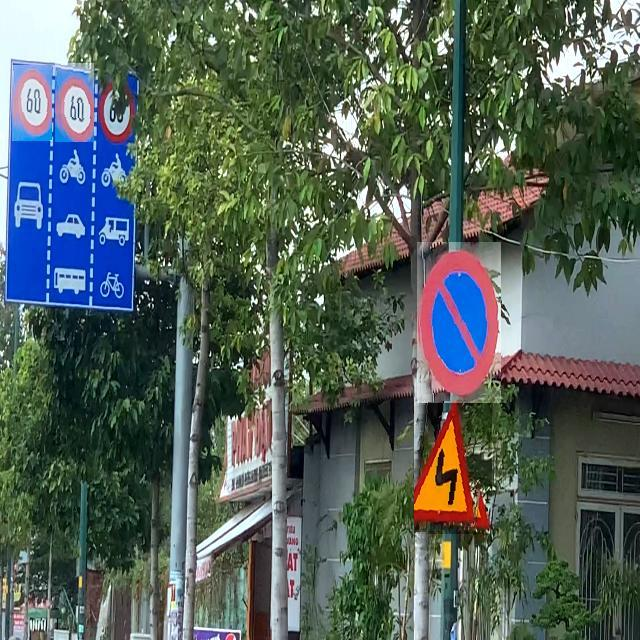P-127: (55, 63, 94, 142), (13, 66, 53, 142)
P-131a: (417, 242, 501, 403)
W-202a: (414, 392, 492, 534)
